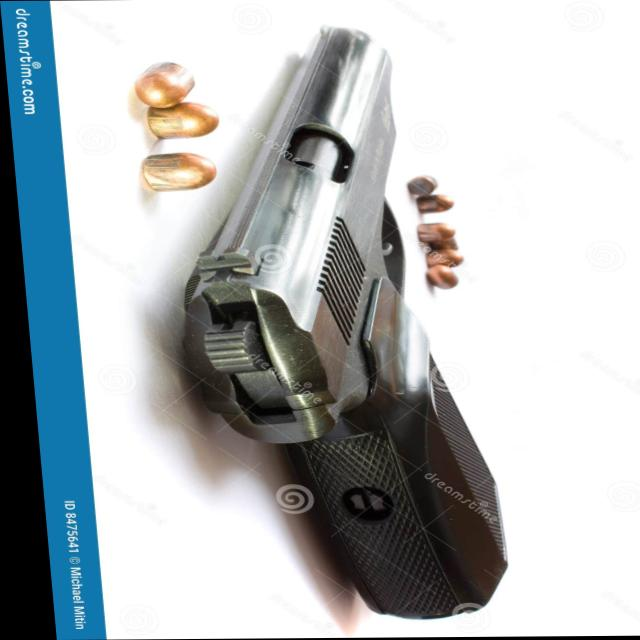handgun: (151, 27, 509, 623)
